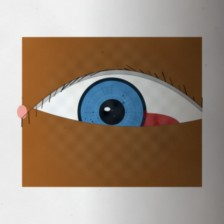hemorrhage_spot: (101, 90, 194, 164)
